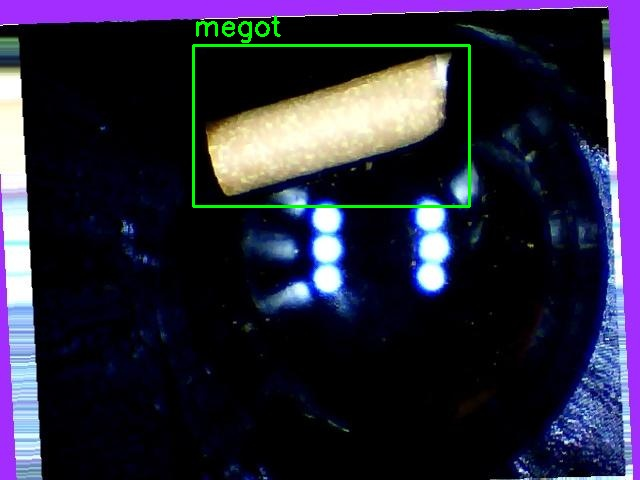megot: (193, 45, 469, 206)
